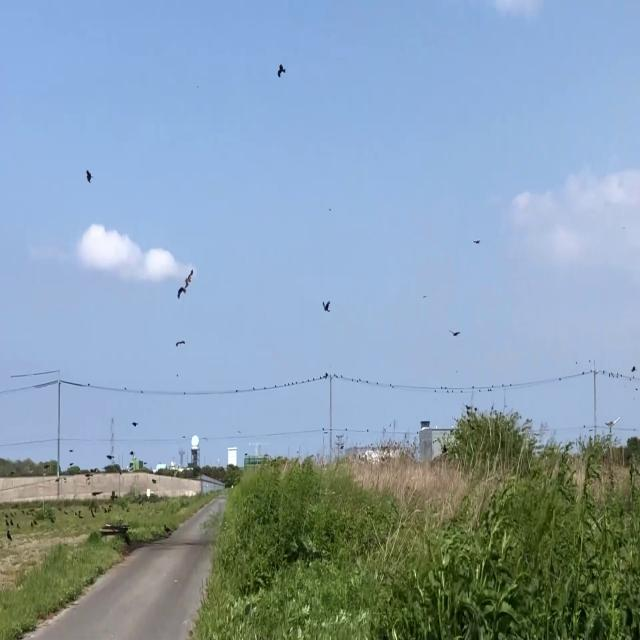bird: (181, 265, 193, 299), (278, 58, 285, 84), (86, 162, 92, 188), (323, 294, 330, 316), (451, 324, 460, 340), (6, 523, 12, 543), (631, 361, 636, 376), (30, 520, 33, 532)
